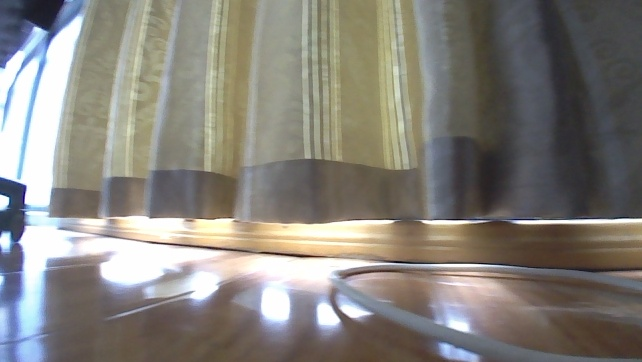wire: (321, 255, 641, 361)
